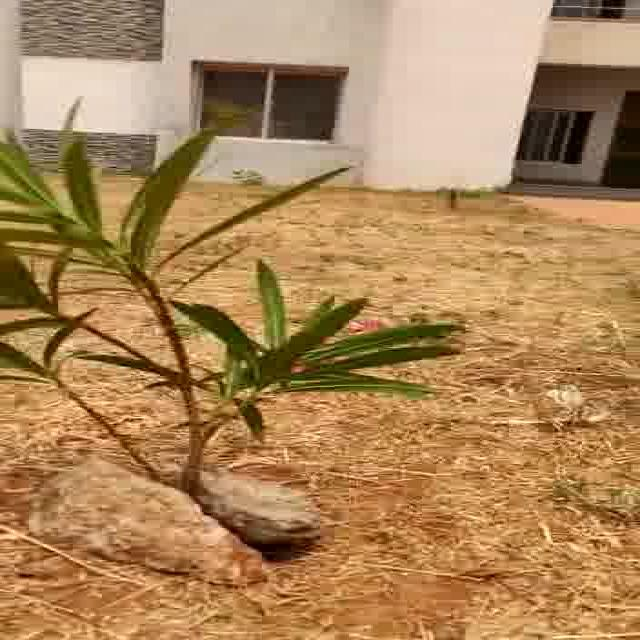Oleander: (0, 109, 484, 444)
